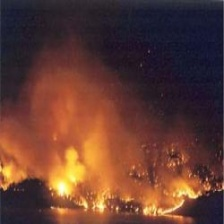fire: (2, 151, 217, 222)
smoke: (14, 30, 137, 144)
